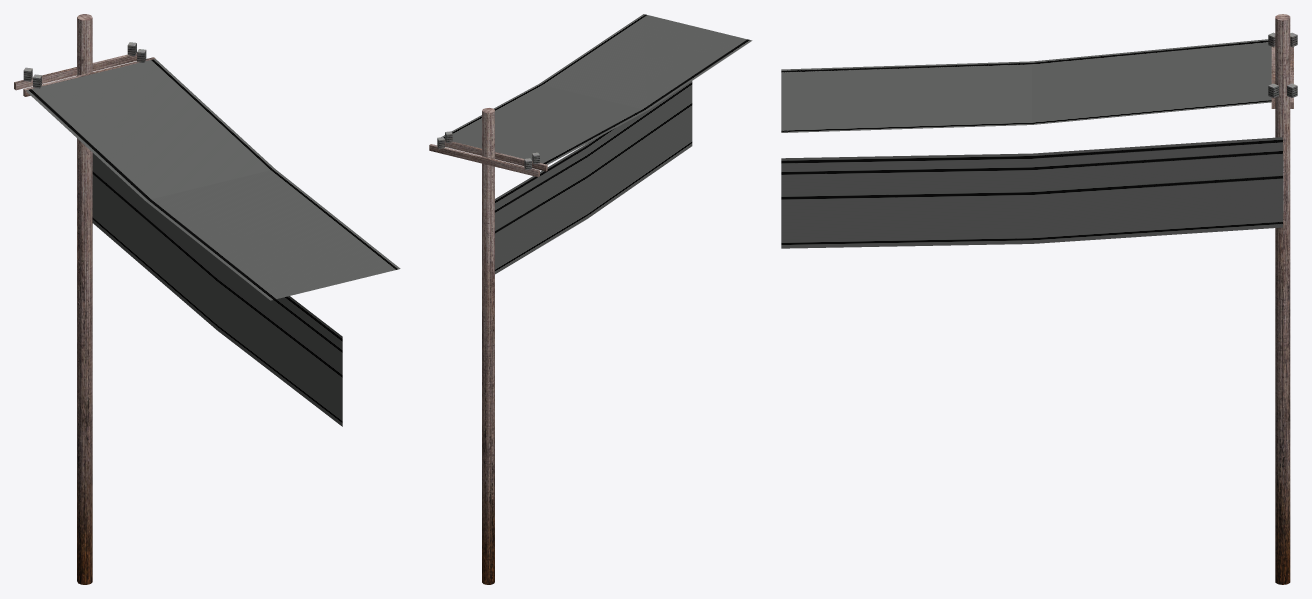
File: wires2_endleft.fbx
3 renders of one model, left to right at view 1: azimuth 30°, elevation 25°; view 2: azimuth 150°, elevation 25°; view 3: azimuth 270°, elevation 25°, orthographic. The views are drawn at different scales.
Visible parts, largest first — view 1: mesh_0; view 2: mesh_0; view 3: mesh_0.
Boxes of the visible parts, x1,y1,x2,y2 form: mesh_0: (14,14,400,584); mesh_0: (429,14,752,584); mesh_0: (781,14,1297,584).
Bounding box in the file's own units: 300 × 1242 × 1029.
1 material, 1 textured.
